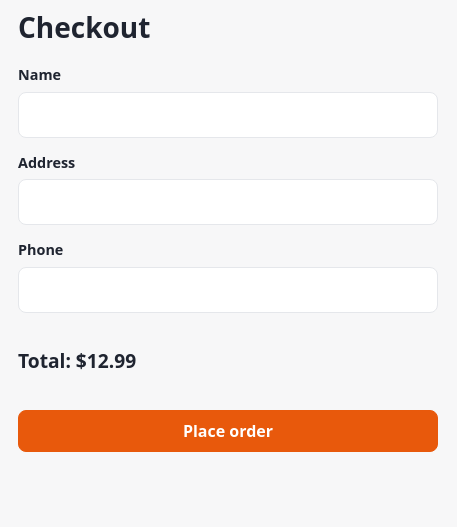
Checkout › shows an error message when the request fails
Check: the text "Total: $12.99" is shown, box [18,347,136,374]
Type "Jane" into the field labelled "Name". click: (228, 115)
box: [18,92,438,138]
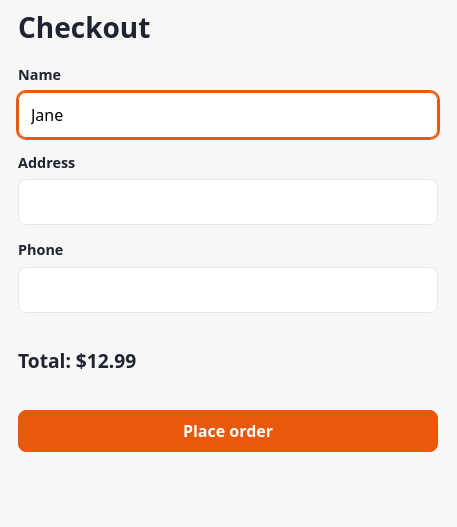
Type "123 Main St" into the field labelled "Address". click: (228, 202)
box: [18,179,438,225]
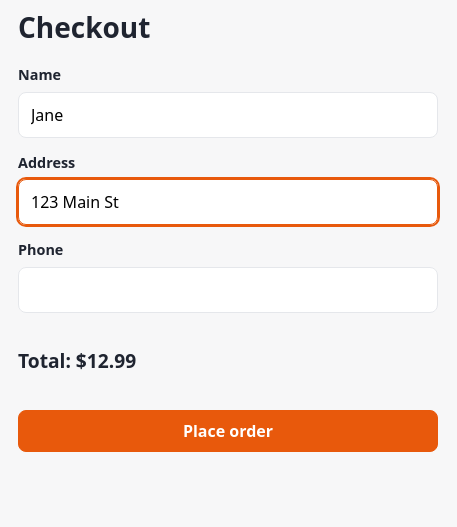
Type "1234567890" into the field labelled "Phone". click: (228, 290)
box: [18,267,438,313]
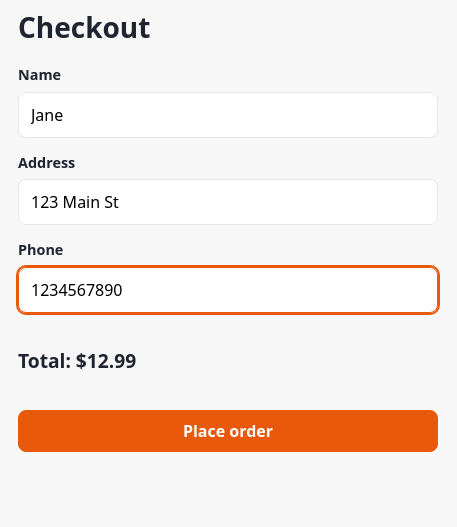
Click the button "Place order". click: click(228, 431)
box: [18,410,438,452]
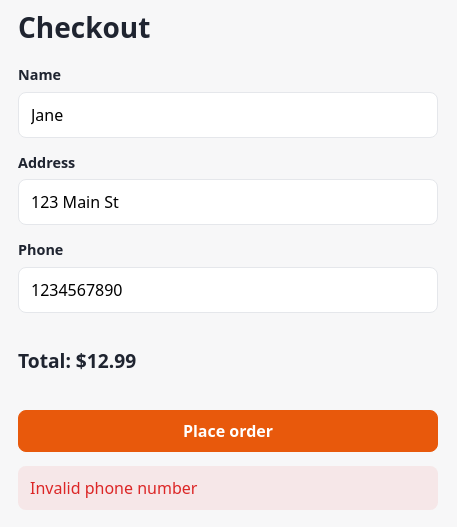
Check: the text "Invalid phone number" is shown, box [18,466,438,510]
